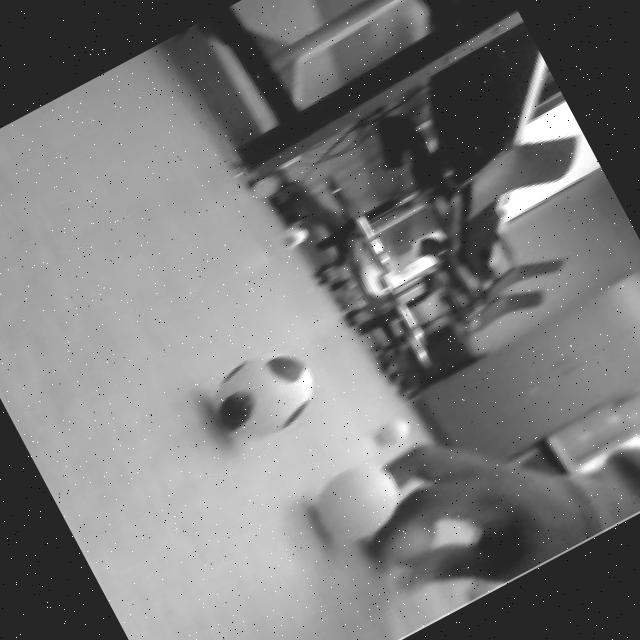ping-pong-ball: (194, 332, 332, 459), (296, 448, 412, 558), (368, 409, 414, 454), (269, 217, 316, 260)
